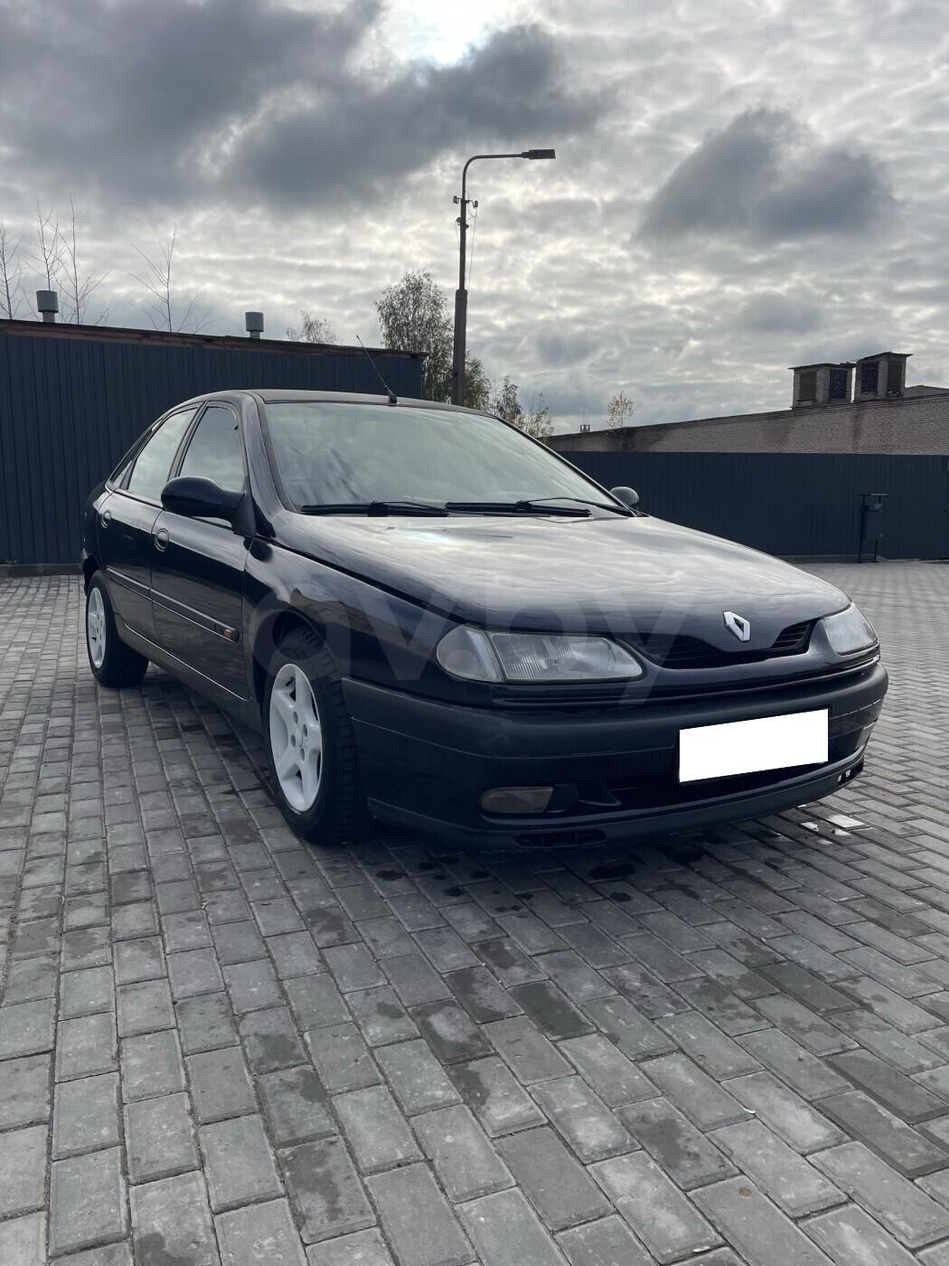Lahuna_1993-1999: (78, 380, 888, 879)
